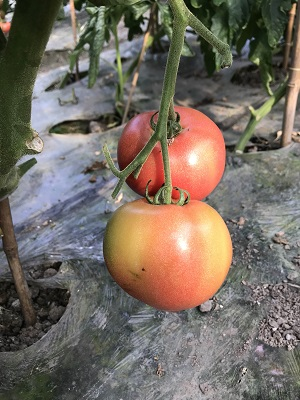mature-tomato: (117, 106, 226, 200)
semi-mature-tomato: (103, 198, 232, 313)
